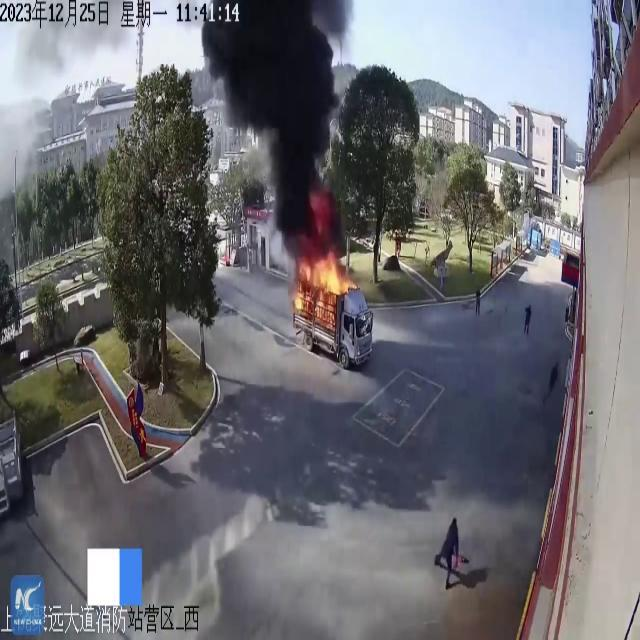Fire: (292, 245, 356, 319)
Smoke: (200, 0, 356, 246)
